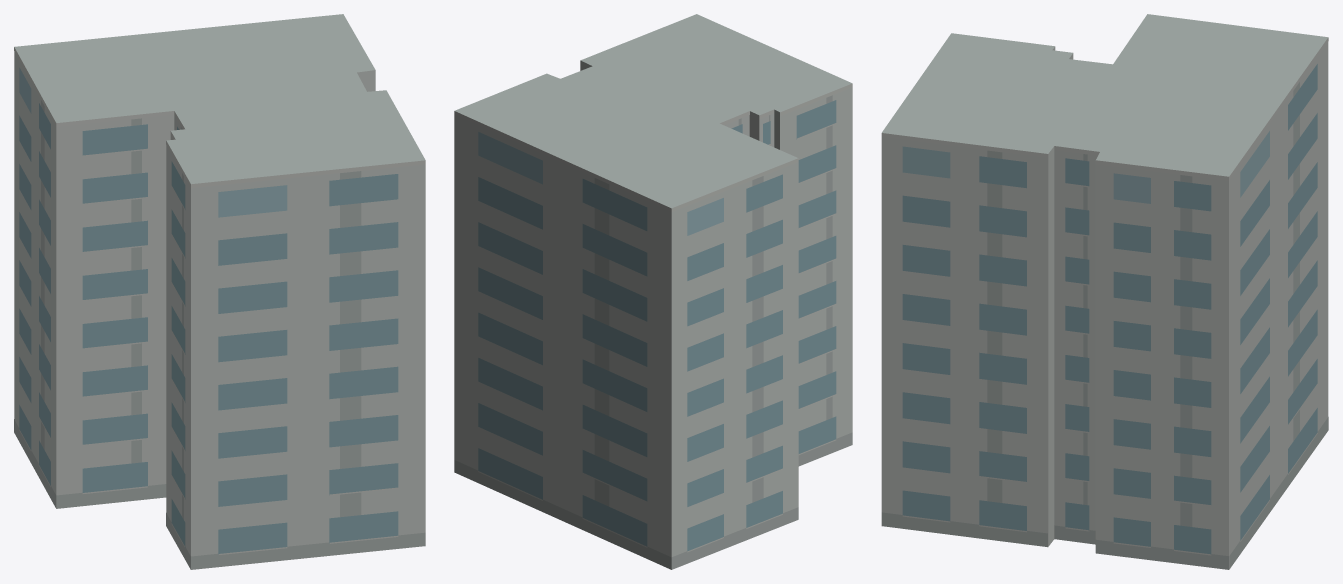
File: survey-upis-32870985.glb
3 renders of one model, left to right at view 1: azimuth 30°, elevation 25°; view 2: azimuth 150°, elevation 25°; view 3: azimuth 270°, elevation 25°, orthographic. The views are drawn at different scales.
Parts seen in each view (by area): view 1: survey-upis-32870985.tmp; view 2: survey-upis-32870985.tmp; view 3: survey-upis-32870985.tmp.
Part boxes in pixels (x1,y1,x2,y2): survey-upis-32870985.tmp: (14,14,425,569); survey-upis-32870985.tmp: (454,14,852,569); survey-upis-32870985.tmp: (881,14,1328,569).
Size of the model in its own units: 20.16 by 22.7 by 23.39.
